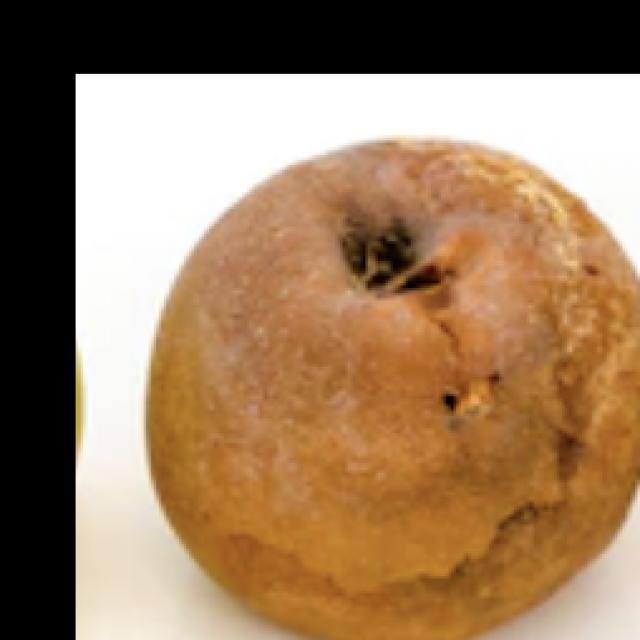Rotten: (140, 148, 640, 640)
